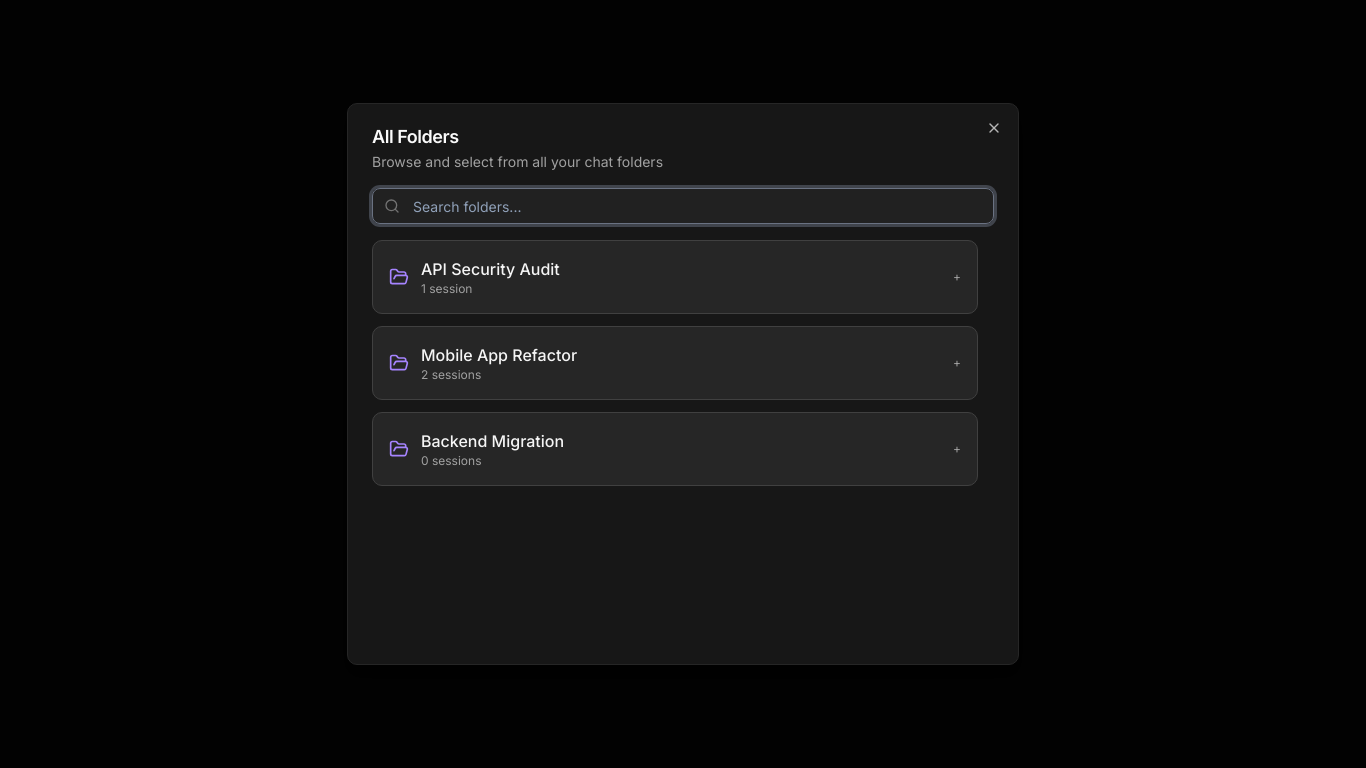
Test case: ShowMoreFoldersDialog Component › Search Functionality Advanced › should filter folders in real-time
// Type search query
Type "API" into the field with placeholder "Search folders..." at (683,206), box [372,188,994,224]
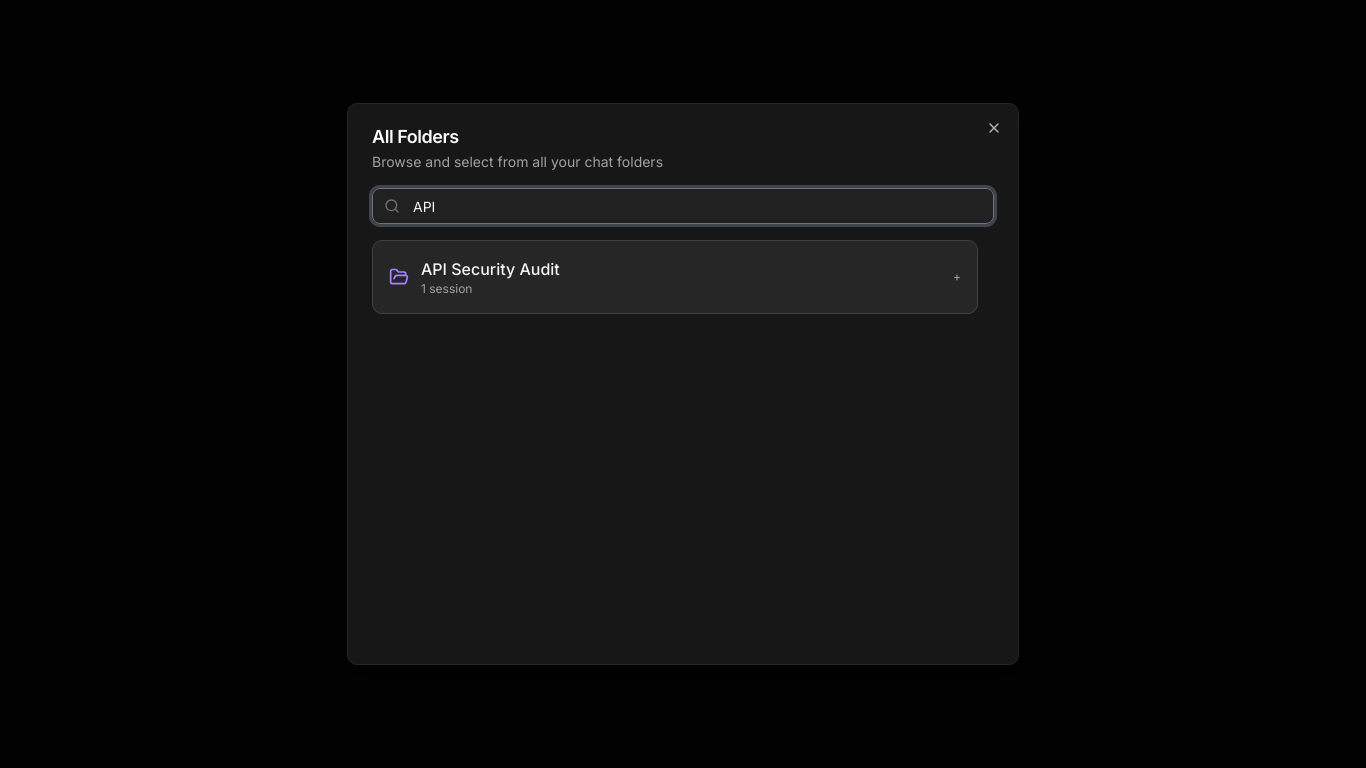
Check: the heading "API Security Audit" is shown, box [421,257,560,281]
Check: the button "Mobile App Refactor" is gone
